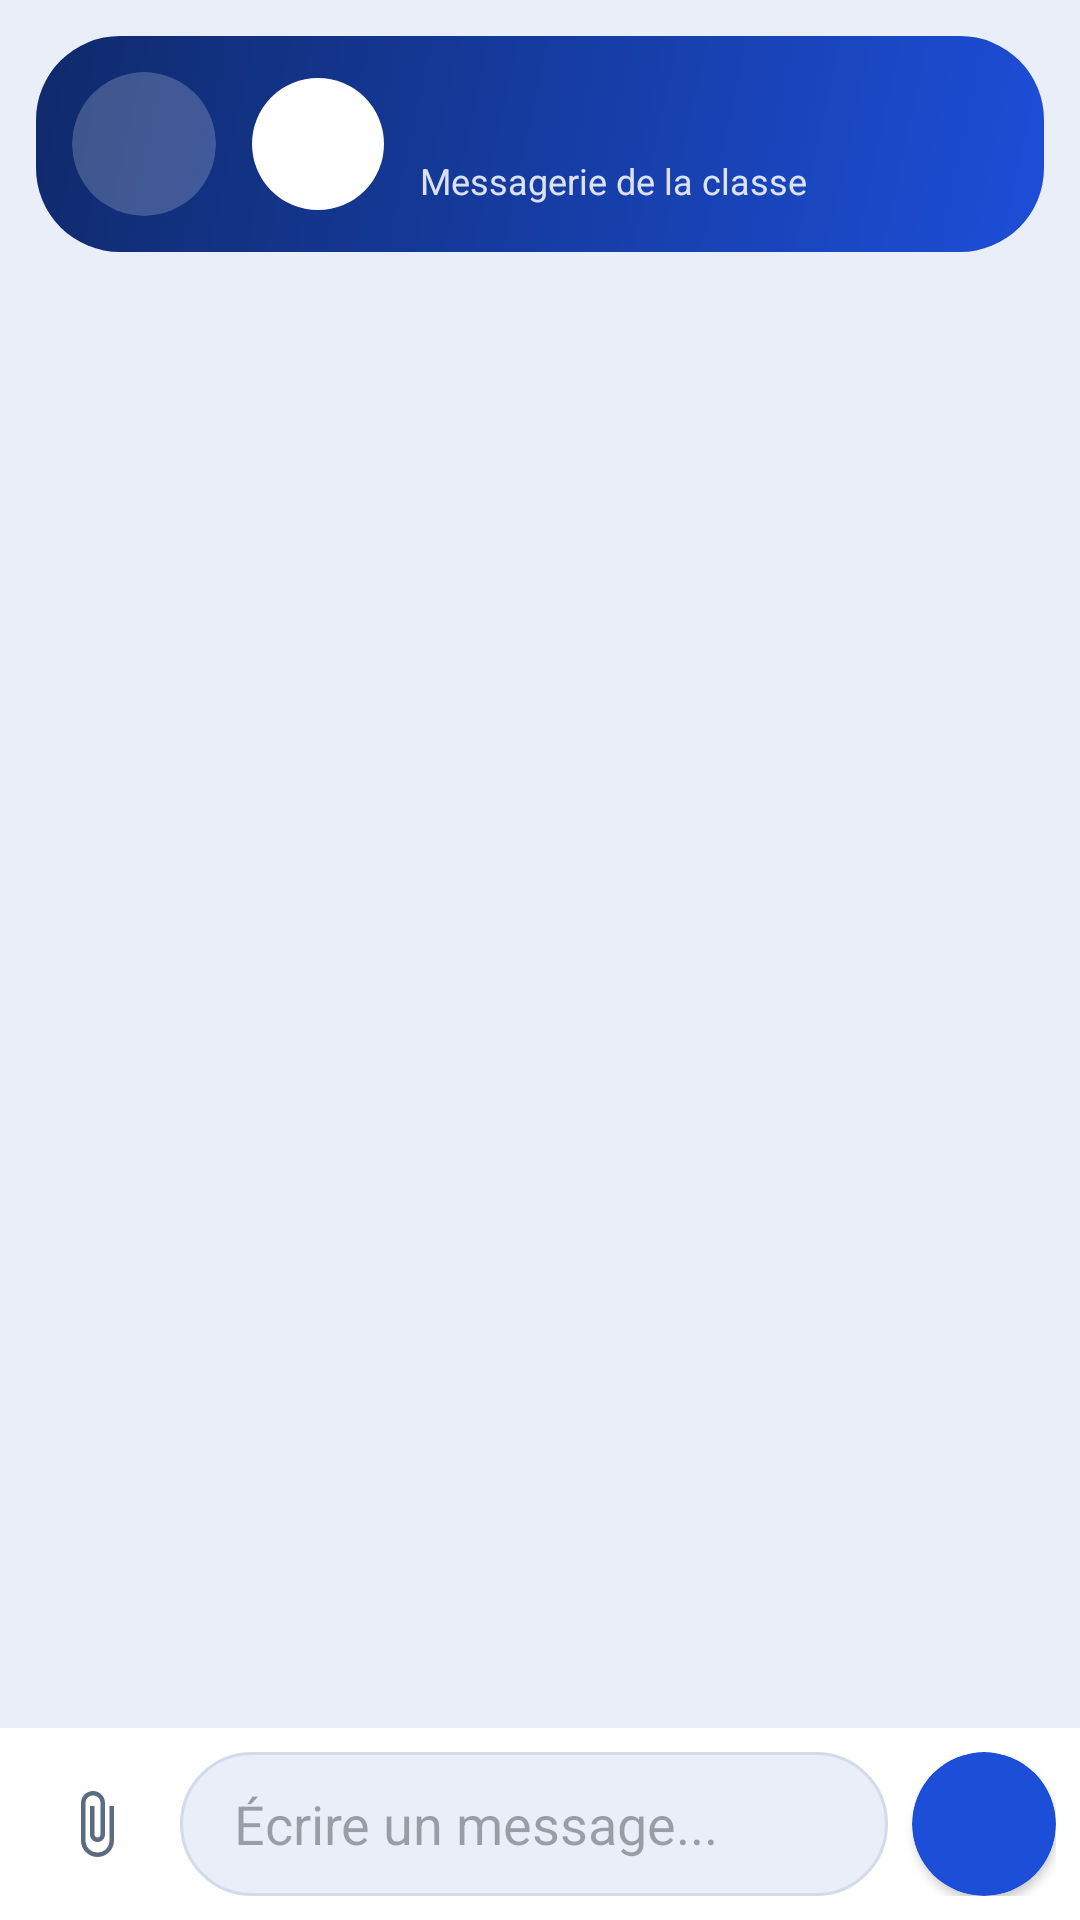

Named icons in this screenshot (1080*1920) and their bounding boxes, (x1, y1, x2, y2):
joindre: (81, 1791, 114, 1857)
